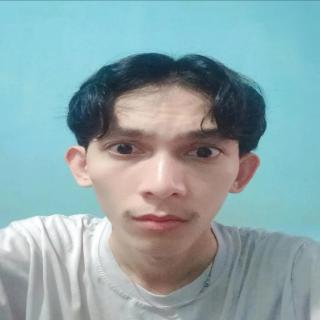Takut: (80, 66, 255, 265)
